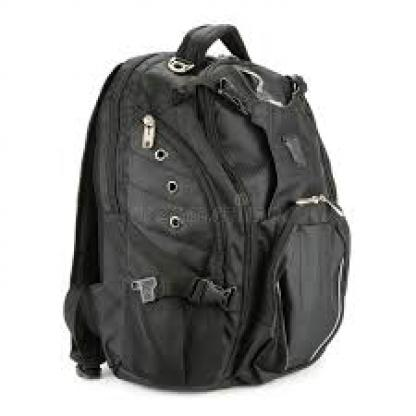morral: (50, 19, 364, 398)
